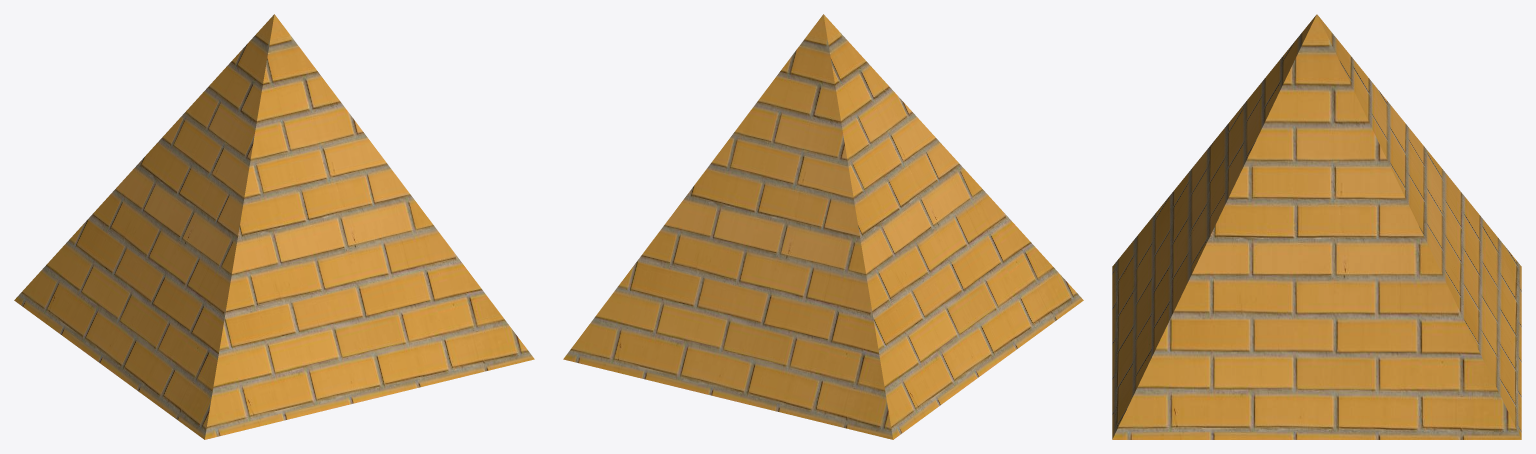
File: piramide.FBX
The picture shows the model from 3 angles, left to right: view 1: azimuth 30°, elevation 25°; view 2: azimuth 150°, elevation 25°; view 3: azimuth 270°, elevation 25°; orthographic projection. The views are drawn at different scales.
Parts seen in each view (by area): view 1: Pyramid001; view 2: Pyramid001; view 3: Pyramid001.
Part boxes in pixels (bbox=[...]): Pyramid001: bbox=[14, 14, 534, 439]; Pyramid001: bbox=[563, 14, 1083, 439]; Pyramid001: bbox=[1112, 14, 1521, 439].
Bounding box in the file's own units: 151 × 138 × 151.
Materials: 1 (1 with a texture image).
